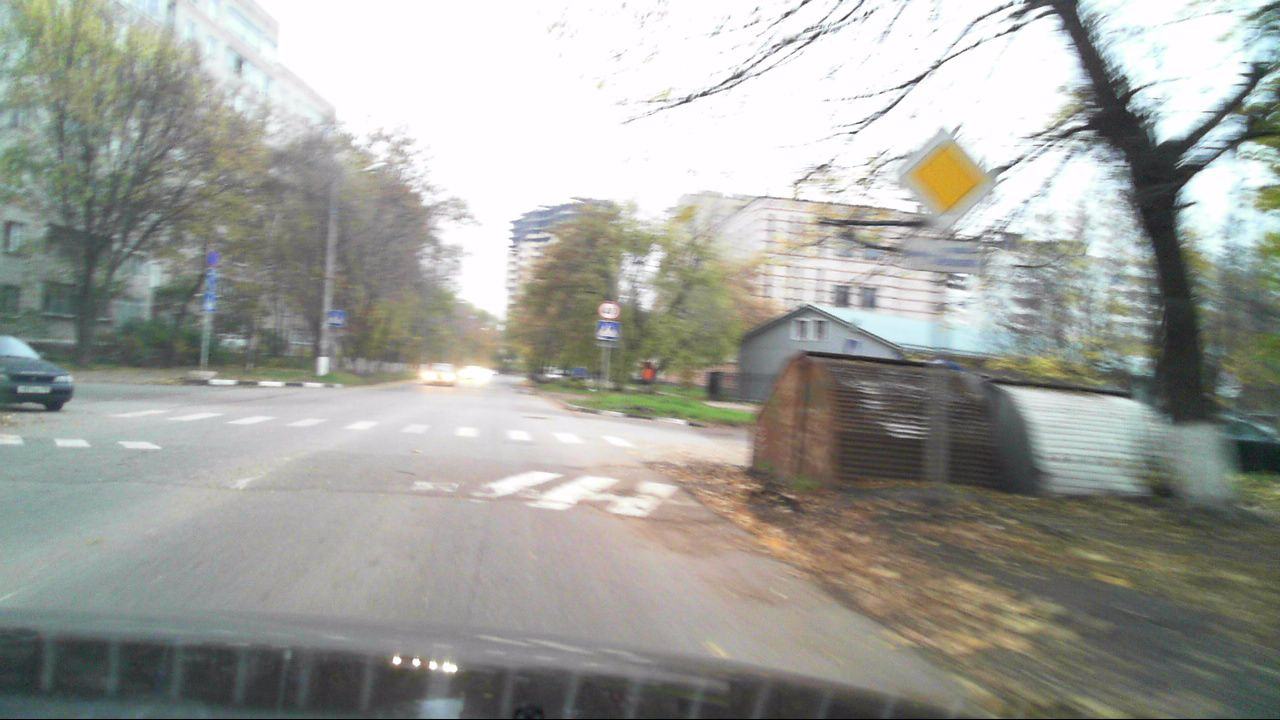speed_warning_40: (599, 300, 618, 319)
